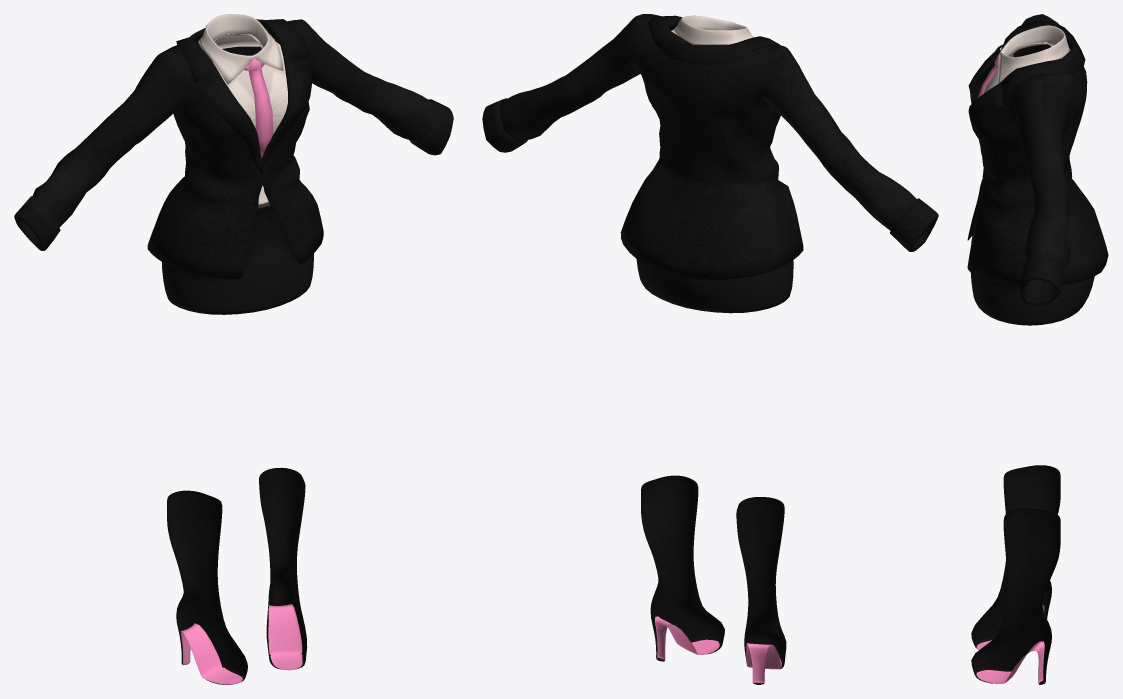
Rendered from woman-coprate.glb.
3 renders of one model, left to right at view 1: azimuth 30°, elevation 25°; view 2: azimuth 150°, elevation 25°; view 3: azimuth 270°, elevation 25°, orthographic. The views are drawn at different scales.
Parts seen in each view (by area): view 1: Circle.001_0, Circle.004_3, Circle.003_2, Circle.002_1, Circle.006_5, Circle.005_4; view 2: Circle.001_0, Circle.004_3, Circle.003_2, Circle.002_1, Circle.006_5; view 3: Circle.001_0, Circle.004_3, Circle.003_2, Circle.002_1, Circle.006_5.
Part boxes in pixels (box(x1,y1,x2,y2)): Circle.001_0: box(14, 19, 453, 279); Circle.004_3: box(167, 467, 307, 684); Circle.003_2: box(162, 34, 313, 314); Circle.002_1: box(176, 19, 311, 177); Circle.006_5: box(198, 14, 283, 84); Circle.005_4: box(244, 57, 272, 157); Circle.001_0: box(482, 14, 938, 280); Circle.004_3: box(641, 475, 786, 684); Circle.003_2: box(636, 28, 793, 313); Circle.002_1: box(647, 15, 779, 65); Circle.006_5: box(673, 15, 753, 44); Circle.001_0: box(967, 14, 1108, 305); Circle.004_3: box(971, 465, 1060, 684); Circle.003_2: box(970, 42, 1094, 325); Circle.002_1: box(968, 21, 1085, 166); Circle.006_5: box(997, 25, 1070, 84).
Size of the model in its own units: 5.65 by 7.84 by 1.6.
Materials: 6 (4 with a texture image).
